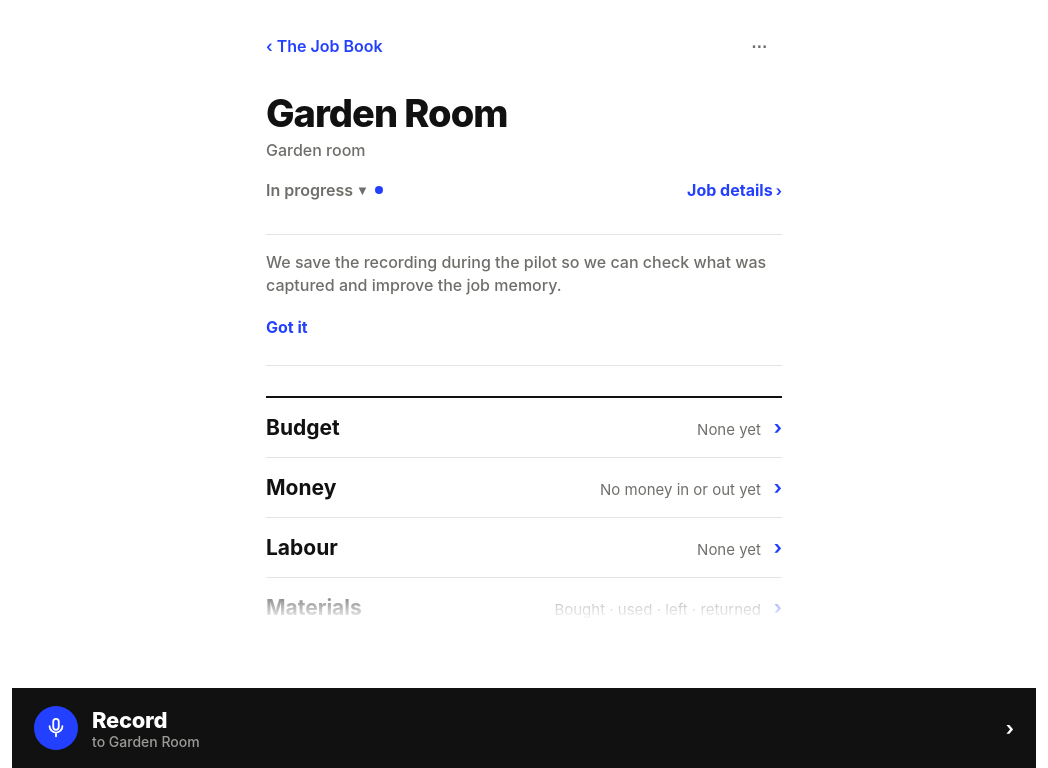
Test case: Job details — placement › is not repeated in section headers — it belongs to the job, not a lens on it
The width and height of the screenshot is (1048, 768).
Expected: the navigation bar named "Job sections" is shown, [266,396,782,698]
Click the button with aria-label "Open Budget" at {"x": 303, "y": 428}, box [266,398,782,458]
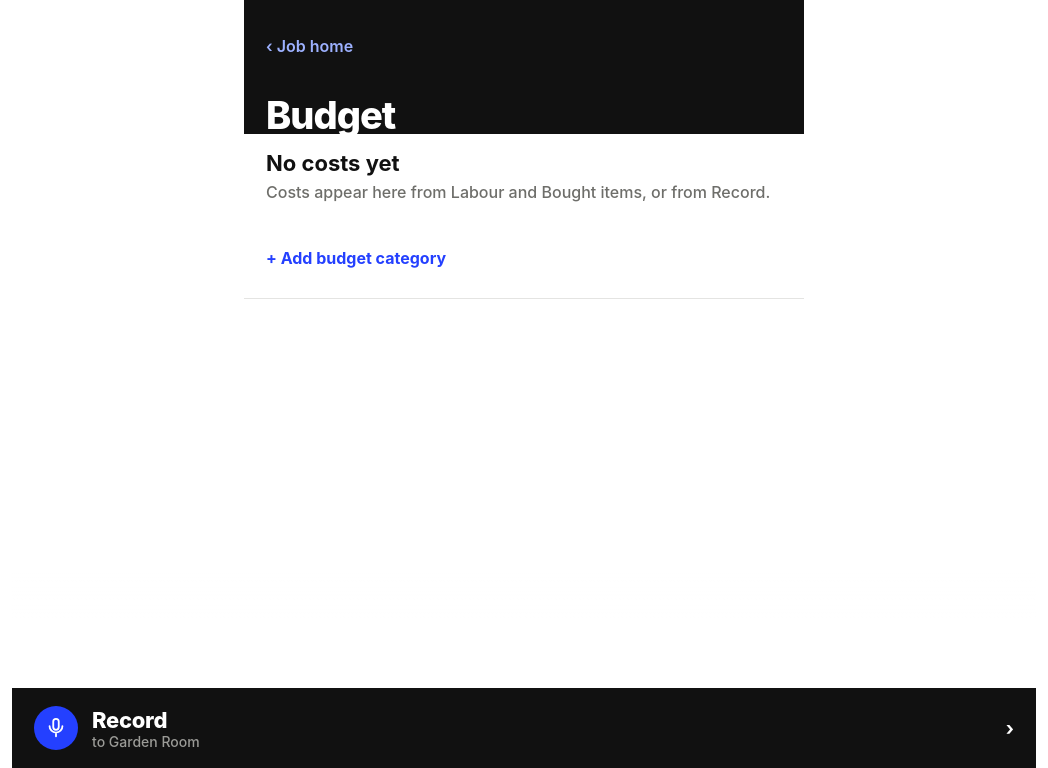
Result: the button "‹ Job home" is shown at [266,24,353,68]
Result: the button "Job details" is gone
